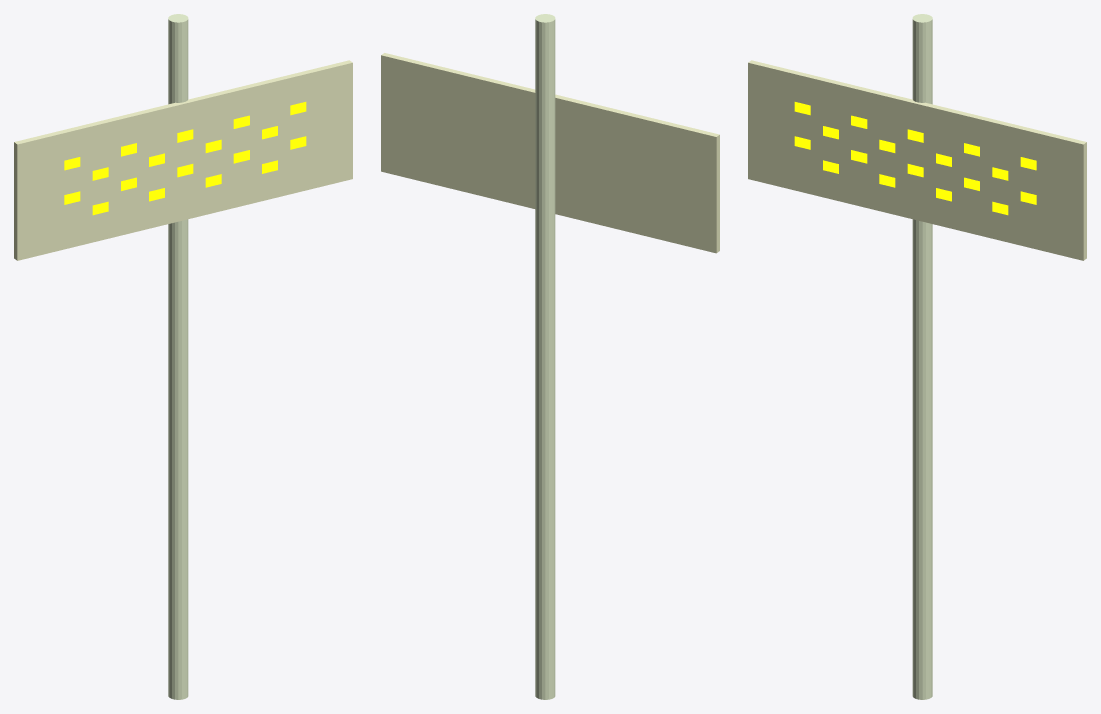
Rendered from sign_variable_message.glb.
The picture shows the model from 3 angles, left to right: view 1: azimuth 30°, elevation 25°; view 2: azimuth 150°, elevation 25°; view 3: azimuth 330°, elevation 25°; orthographic projection.
Visible parts, largest first — view 1: plate_base_00, pole; view 2: plate_base_00, pole; view 3: plate_base_00, pole.
Part boxes in pixels (x1,y1,x2,y2): plate_base_00: (14,60,352,260); pole: (168,14,188,699); plate_base_00: (381,53,719,253); pole: (535,14,555,699); plate_base_00: (748,60,1086,260); pole: (912,14,932,699).
Size of the model in its own units: 1.14 by 2.2 by 0.071.
